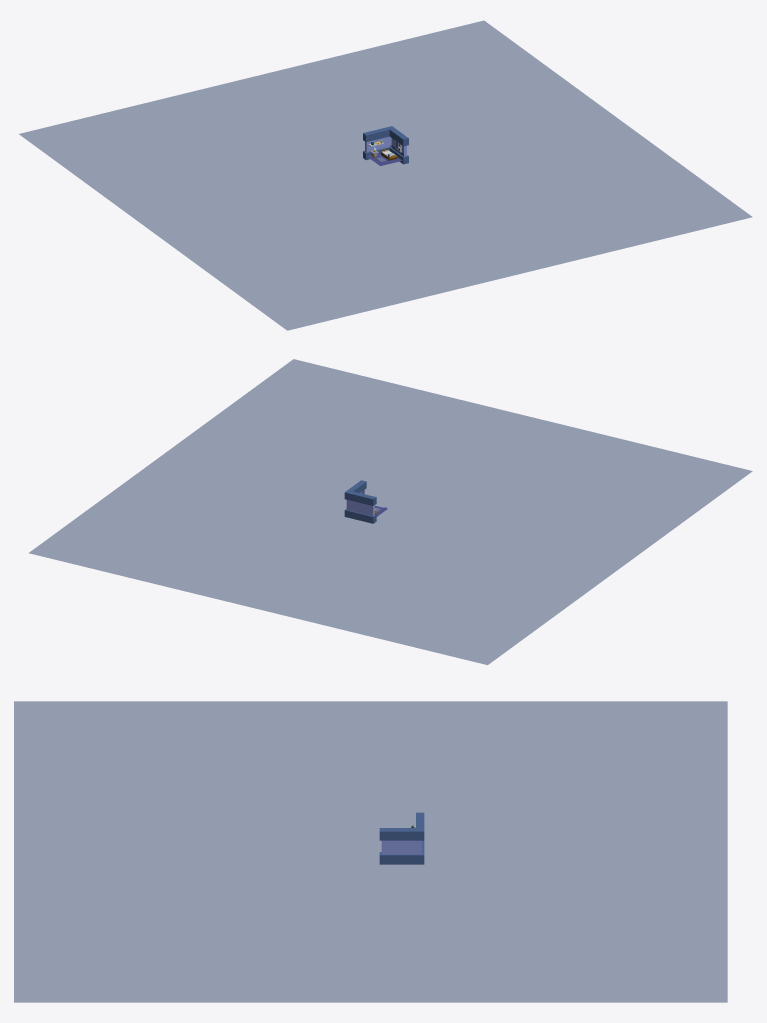
Rendered from world_home.glb.
3 renders of one model, top to bottom at view 1: azimuth 30°, elevation 25°; view 2: azimuth 150°, elevation 25°; view 3: azimuth 270°, elevation 25°, orthographic. The views are drawn at different scales.
Visible parts, largest first — view 1: Plane.013, Walls; view 2: Plane.013, Walls; view 3: Plane.013, Walls.
Part boxes in pixels (x1,y1,x2,y2): Plane.013: (19, 20, 752, 330); Walls: (363, 126, 408, 164); Plane.013: (28, 359, 752, 665); Walls: (344, 480, 376, 523); Plane.013: (14, 701, 727, 1002); Walls: (379, 812, 424, 864).
Bounding box in the file's own units: 39.72 × 2.45 × 40.7.
28 materials, 1 textured.
